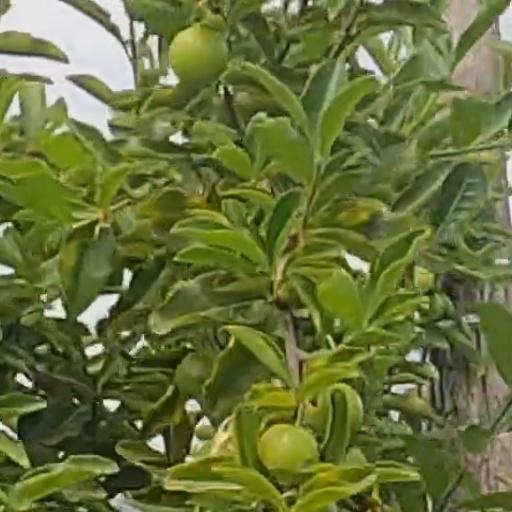acerola: (173, 25, 229, 82), (258, 424, 317, 466)
